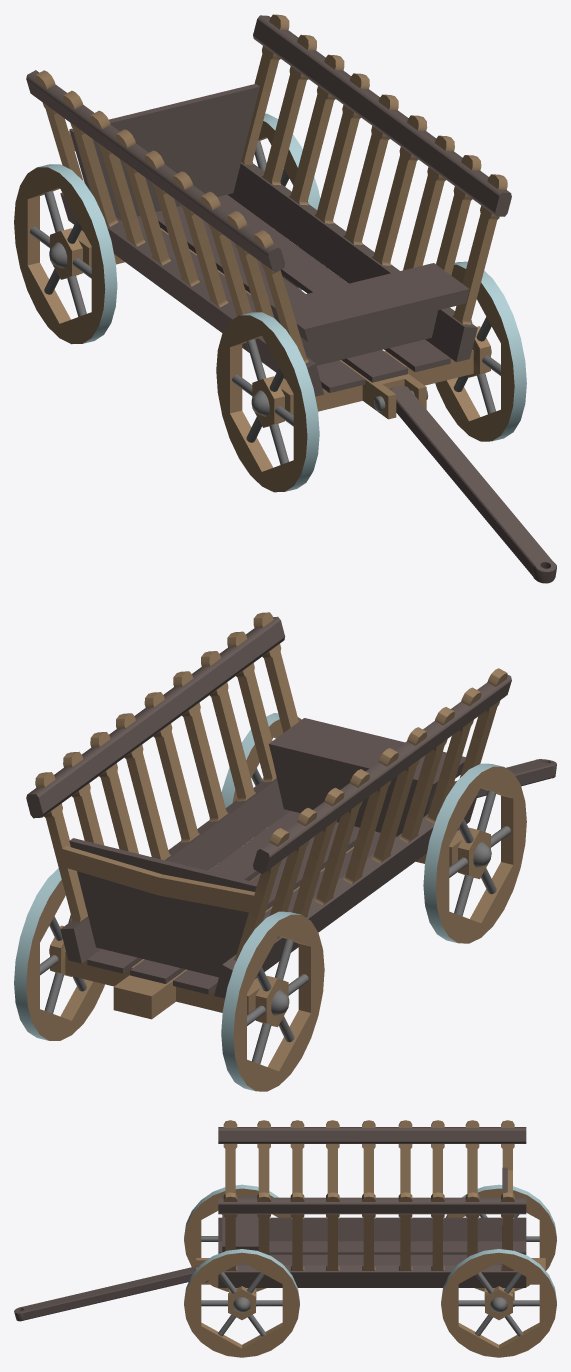
The model's file is Karuchka_A_Export.fbx.
3 views of the same model, one above another, from view 1: azimuth 30°, elevation 25°; view 2: azimuth 150°, elevation 25°; view 3: azimuth 270°, elevation 25° (orthographic). The views are drawn at different scales.
Visible parts, largest first — view 1: polySurface8, polySurface7, group1_pCube34, group1_pCube33, pCube4, pCube6, polySurface4, pCylinder6, pCube45, pCube44, group1_pCube32, pCube3 (+20 smaller); view 2: group1_pCube33, polySurface7, polySurface8, group1_pCube34, pCube6, group2_pCube25, polySurface6, pCube4, pCube45, pCube44, group1_pCube32, pCube3 (+20 smaller); view 3: polySurface4, polySurface6, pCube45, pCube6, pCube4, pCube44, pCylinder6, pCube43, polySurface7, polySurface8, pCube42, group2_pCube25 (+18 smaller).
Part boxes in pixels (left/top/right/bottom): polySurface8: left=216, top=312, right=319, bottom=492; polySurface7: left=14, top=164, right=117, bottom=344; group1_pCube34: left=270, top=263, right=469, bottom=365; group1_pCube33: left=69, top=84, right=259, bottom=220; pCube4: left=228, top=162, right=477, bottom=362; pCube6: left=253, top=15, right=511, bottom=216; polySurface4: left=435, top=261, right=526, bottom=441; pCylinder6: left=390, top=386, right=556, bottom=583; pCube45: left=26, top=70, right=284, bottom=272; pCube44: left=60, top=192, right=323, bottom=396; group1_pCube32: left=77, top=228, right=473, bottom=419; pCube3: left=217, top=195, right=450, bottom=372; group1_pCube33: left=69, top=838, right=257, bottom=977; polySurface7: left=221, top=911, right=324, bottom=1091; polySurface8: left=423, top=763, right=526, bottom=943; group1_pCube34: left=269, top=718, right=465, bottom=836; pCube6: left=26, top=616, right=285, bottom=818; group2_pCube25: left=35, top=772, right=289, bottom=960; polySurface6: left=14, top=868, right=104, bottom=1040; pCube4: left=60, top=778, right=290, bottom=963; pCube45: left=253, top=675, right=511, bottom=873; pCube44: left=214, top=794, right=477, bottom=998; group1_pCube32: left=65, top=830, right=463, bottom=1019; pCube3: left=87, top=811, right=300, bottom=973; polySurface4: left=184, top=1249, right=299, bottom=1357; polySurface6: left=441, top=1249, right=556, bottom=1357; pCube45: left=218, top=1127, right=526, bottom=1143; pCube6: left=218, top=1197, right=526, bottom=1214; pCube4: left=218, top=1265, right=526, bottom=1287; pCube44: left=218, top=1217, right=526, bottom=1241; pCylinder6: left=14, top=1265, right=199, bottom=1321; pCube43: left=218, top=1241, right=526, bottom=1254; polySurface7: left=446, top=1184, right=556, bottom=1291; polySurface8: left=184, top=1184, right=291, bottom=1291; pCube42: left=236, top=1254, right=525, bottom=1265; group2_pCube25: left=501, top=1120, right=514, bottom=1270.
Size of the model in its own units: 6.62 by 6.74 by 19.87.
